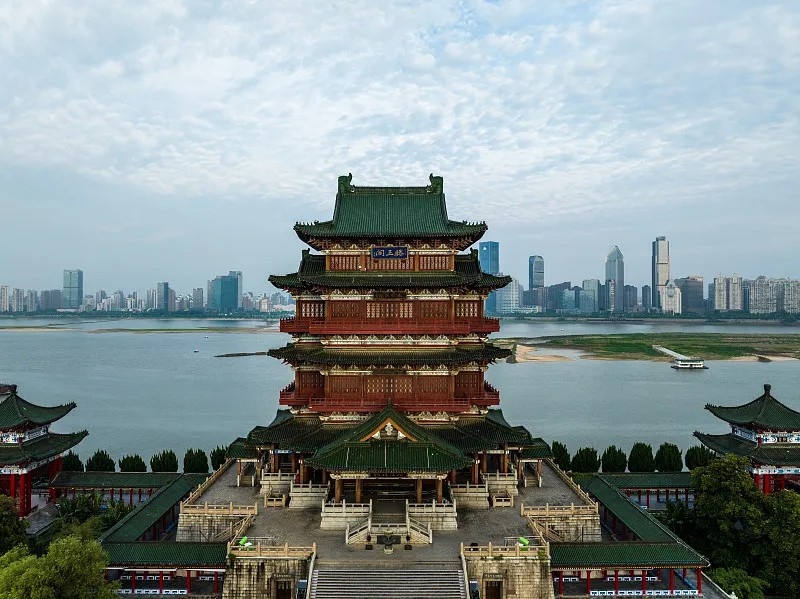Teng: (226, 172, 554, 510)
